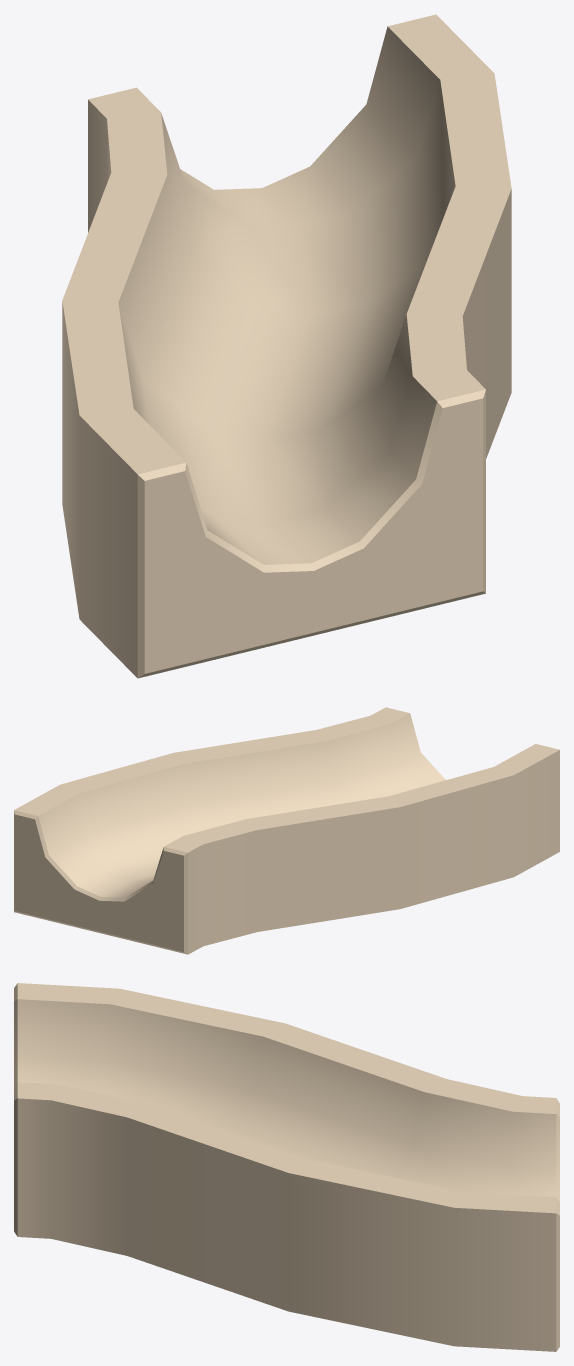
Rendered from track_curve_a03.glb.
The picture shows the model from 3 angles, top to bottom: view 1: azimuth 30°, elevation 25°; view 2: azimuth 150°, elevation 25°; view 3: azimuth 270°, elevation 25°; orthographic projection. The views are drawn at different scales.
Parts seen in each view (by area): view 1: Curve; view 2: Curve; view 3: Curve.
Boxes of the visible parts, box(x1,y1,x2,y2) form: Curve: box(62, 14, 511, 678); Curve: box(14, 707, 559, 954); Curve: box(14, 983, 559, 1351).
Size of the model in its own units: 3.99 by 1.12 by 4.
